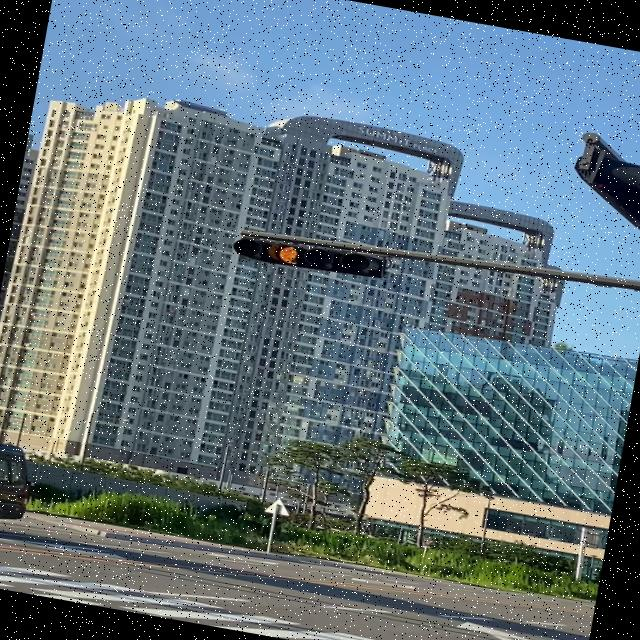yellow_light: (232, 230, 386, 281)
